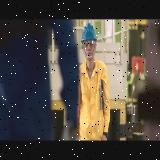Helmet: (81, 23, 97, 43)
